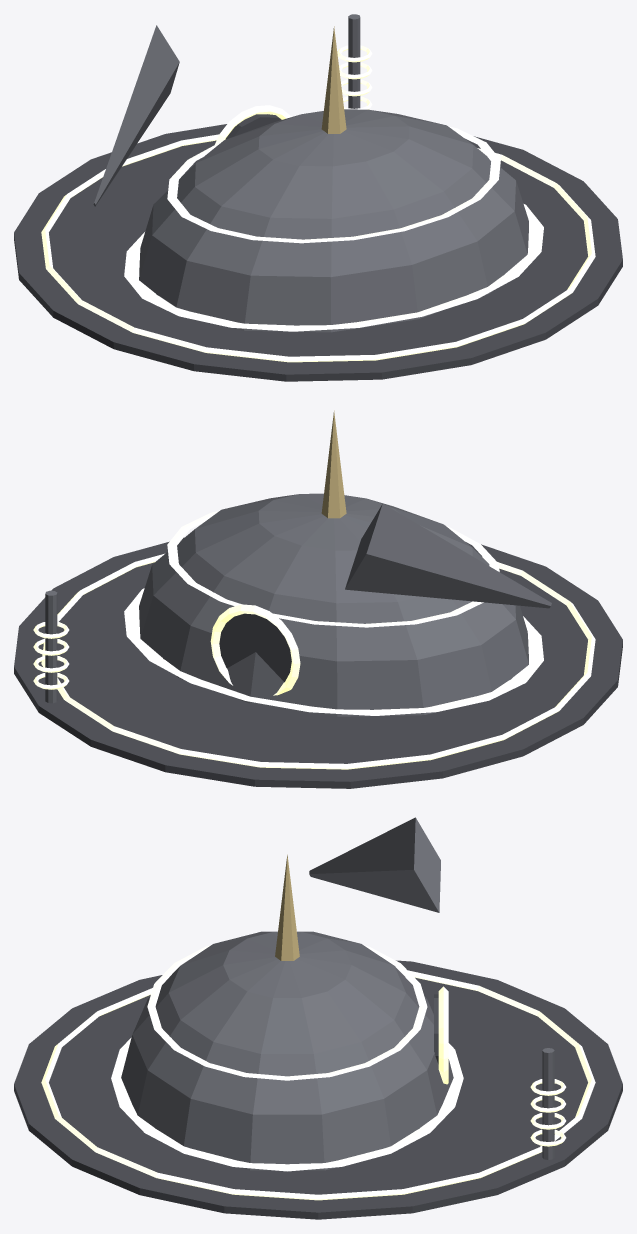
Rendered from zone_low_1_t4.glb.
3 views of the same model, one above another, from view 1: azimuth 30°, elevation 25°; view 2: azimuth 150°, elevation 25°; view 3: azimuth 270°, elevation 25° (orthographic).
Visible parts, largest first — view 1: zone_low_1_t4, detail; view 2: zone_low_1_t4, detail; view 3: zone_low_1_t4, detail.
Boxes of the visible parts, x1,y1,x2,y2 form: zone_low_1_t4: (14,25,622,381); detail: (41,14,595,362); zone_low_1_t4: (14,410,622,788); detail: (33,510,595,769); zone_low_1_t4: (14,817,622,1219); detail: (41,945,595,1200).
Bounding box in the file's own units: 19.6 × 8.43 × 19.6.
